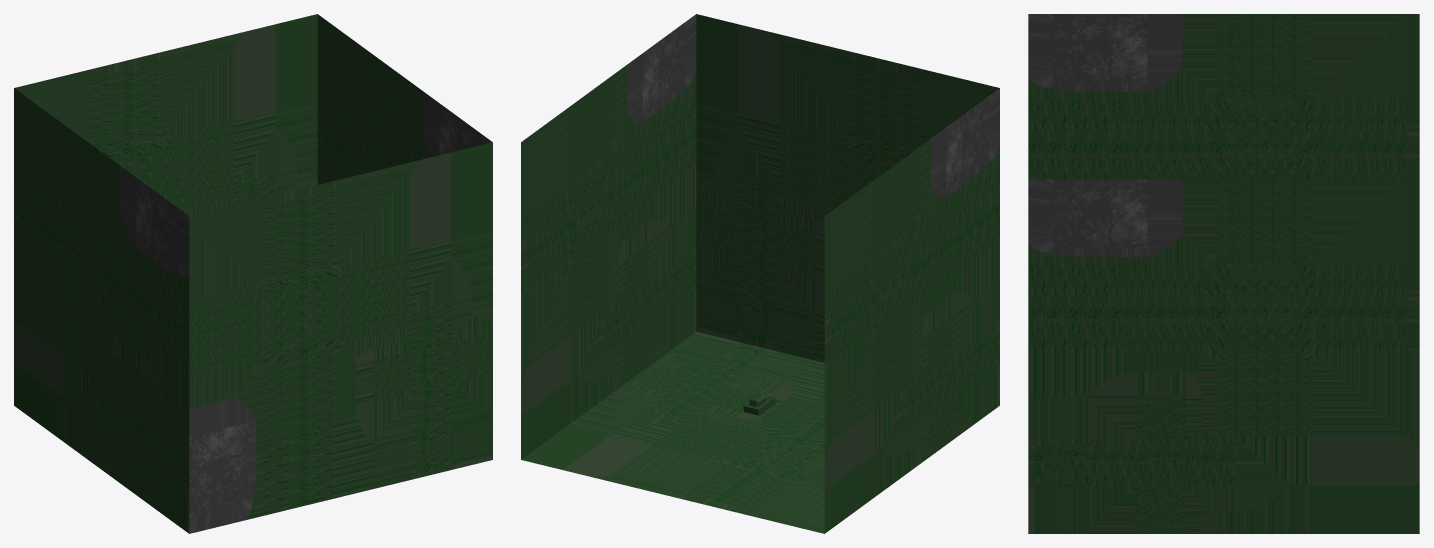
3 views of the same model, side by side, from view 1: azimuth 30°, elevation 25°; view 2: azimuth 150°, elevation 25°; view 3: azimuth 270°, elevation 25° (orthographic). The views are drawn at different scales.
Visible parts, largest first — view 1: bspPlane.001, bspPlane.003, bspPlane.002, bspPlane.004; view 2: bspPlane.001, bspPlane.003, bspPlane.004, bspPlane.000; view 3: bspPlane.004, bspPlane.003.
Part boxes in pixels (<box>): bspPlane.001: <box>189,142,492,533</box>; bspPlane.003: <box>14,88,189,533</box>; bspPlane.002: <box>14,14,317,216</box>; bspPlane.004: <box>317,14,492,184</box>; bspPlane.001: <box>696,14,999,362</box>; bspPlane.003: <box>824,88,999,533</box>; bspPlane.004: <box>521,14,696,459</box>; bspPlane.000: <box>521,331,824,533</box>; bspPlane.004: <box>1028,179,1419,533</box>; bspPlane.003: <box>1028,14,1419,179</box>.
Bounding box in the file's own units: 100 × 100 × 100.
